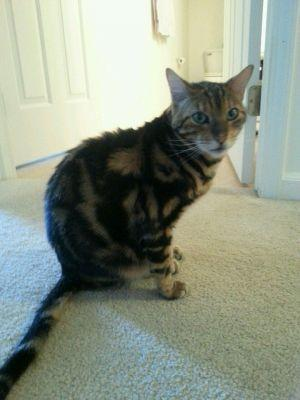bengal: (160, 60, 265, 166)
